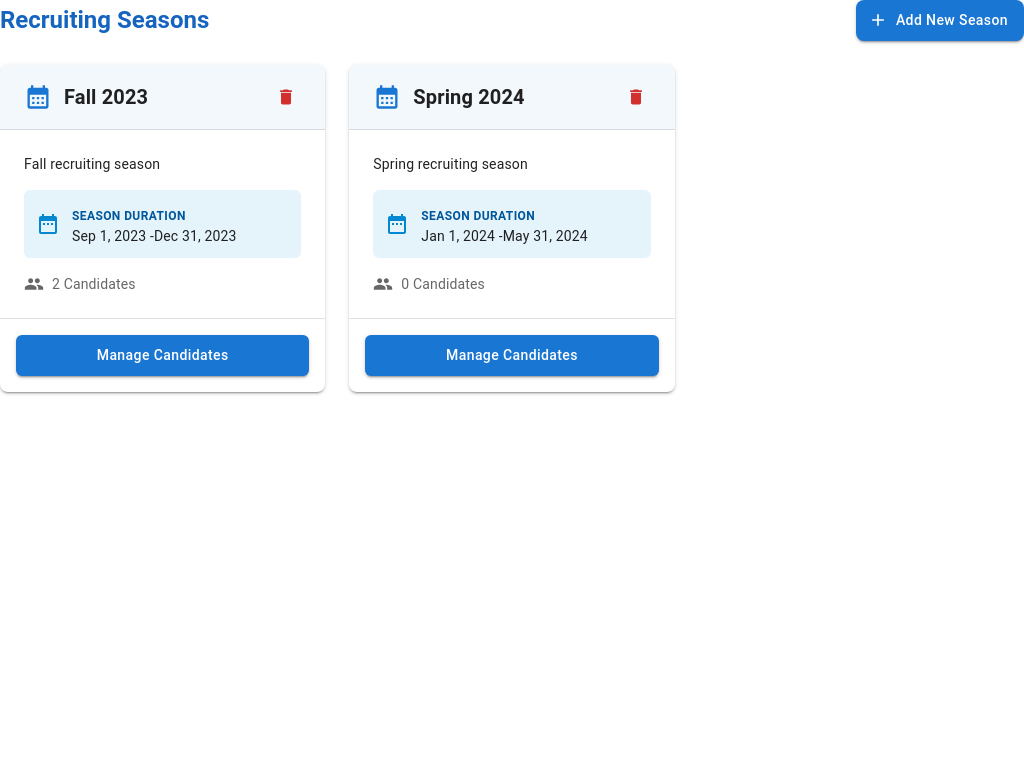
Test: RecruitingSeasonManagement › handles season creation API error
This screenshot has width=1024, height=768.
Note: Open dialog and submit
Click the button "Add New Season".
click(940, 20)  # box x1=856 y1=0 x2=1023 y2=40
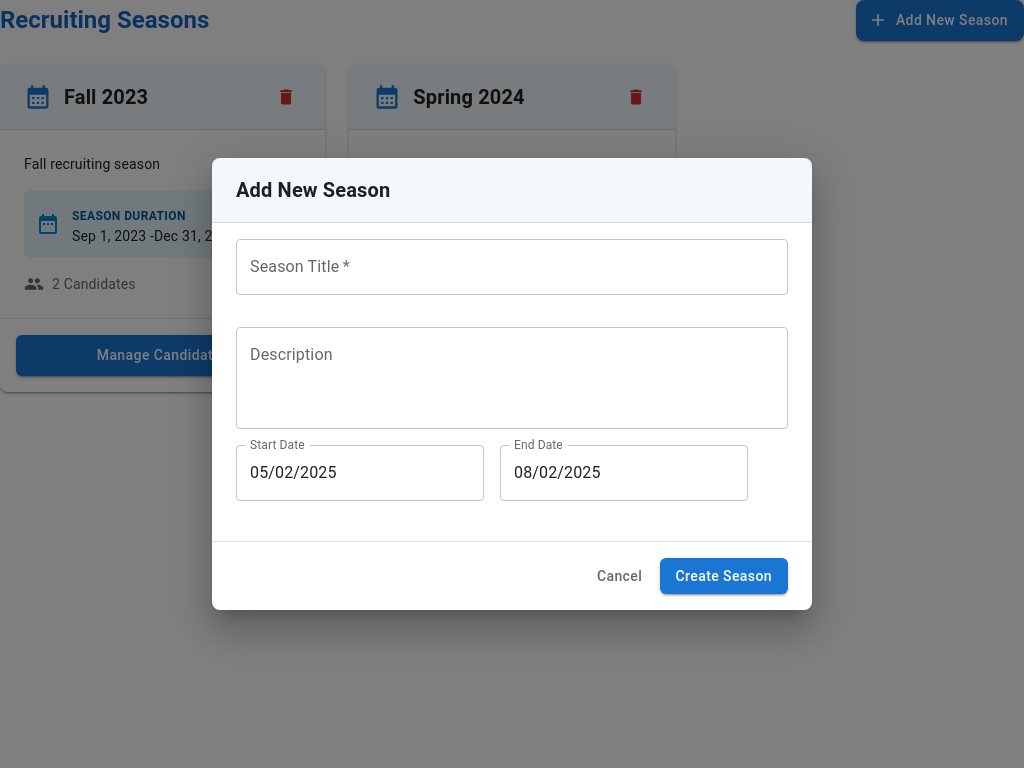
Click the button "Create Season".
click(724, 576)  # box x1=660 y1=558 x2=788 y2=594
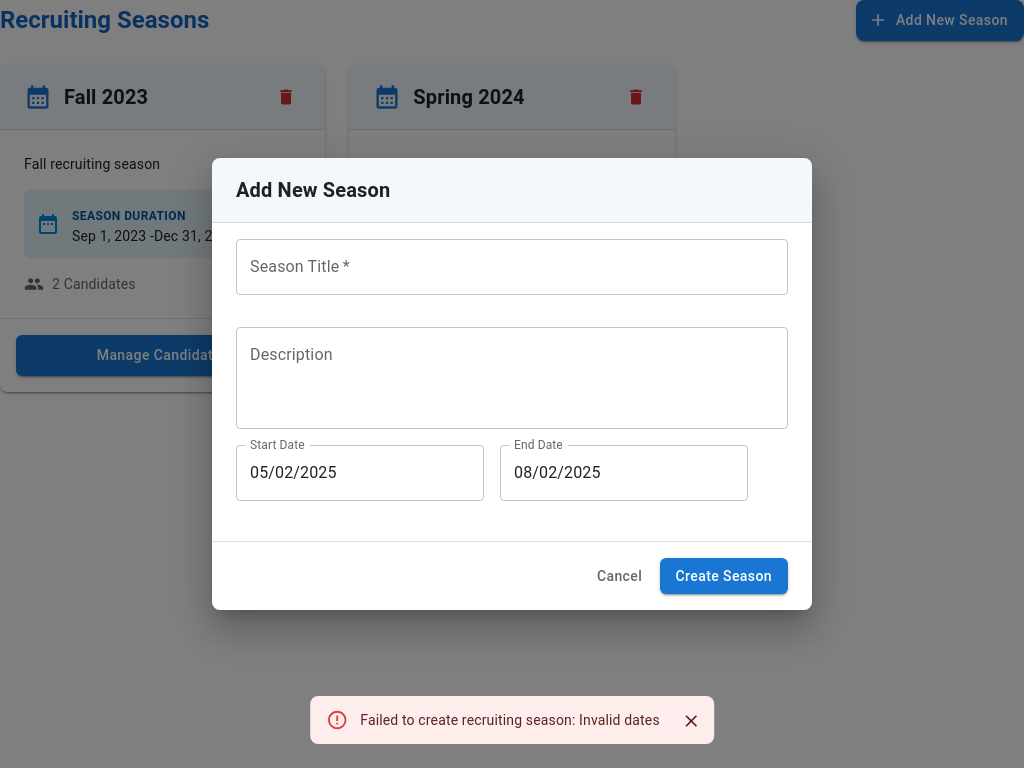
Now the text "Failed to create recruiting season: Invalid dates" is shown, box x1=360 y1=712 x2=660 y2=728
